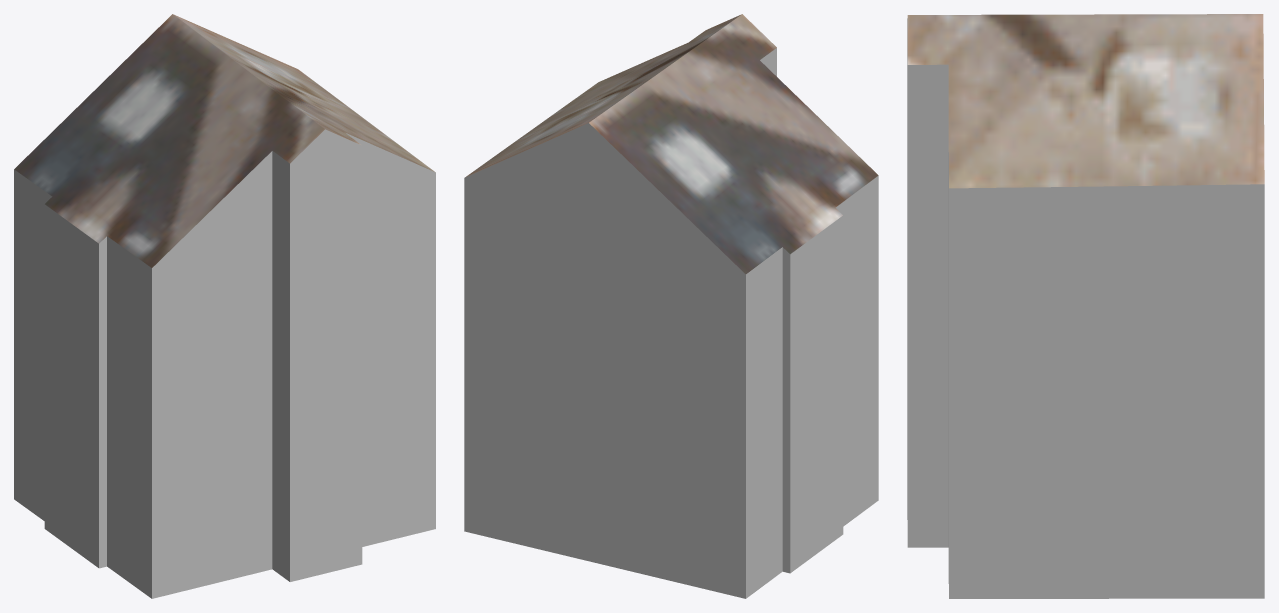
The model's file is DEBW_0010007Txgu.gltf.
3 views of the same model, side by side, from view 1: azimuth 30°, elevation 25°; view 2: azimuth 150°, elevation 25°; view 3: azimuth 270°, elevation 25° (orthographic). The views are drawn at different scales.
Parts seen in each view (by area): view 1: Z_UP; view 2: Z_UP; view 3: Z_UP.
Boxes of the visible parts, x1,y1,x2,y2 form: Z_UP: [14, 14, 435, 598]; Z_UP: [464, 14, 878, 598]; Z_UP: [907, 14, 1264, 598].
Bounding box in the file's own units: 12.49 × 18.15 × 11.44.
Materials: 2 (1 with a texture image).
